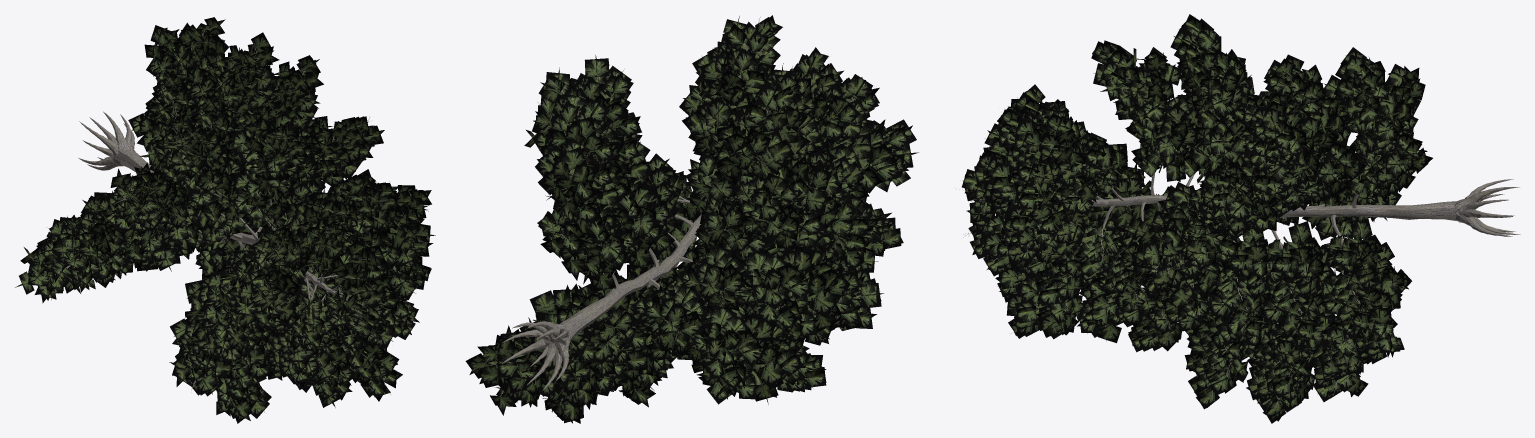
The picture shows the model from 3 angles, left to right: view 1: azimuth 30°, elevation 25°; view 2: azimuth 150°, elevation 25°; view 3: azimuth 270°, elevation 25°; orthographic projection. The views are drawn at different scales.
Parts seen in each view (by area): view 1: EA12m; view 2: EA12m; view 3: EA12m.
Boxes of the visible parts, x1,y1,x2,y2 form: EA12m: (15,17,435,423); EA12m: (465,15,918,423); EA12m: (962,14,1520,423).
Size of the model in its own units: 124 by 117 by 174.
Materials: 2 (2 with a texture image).
